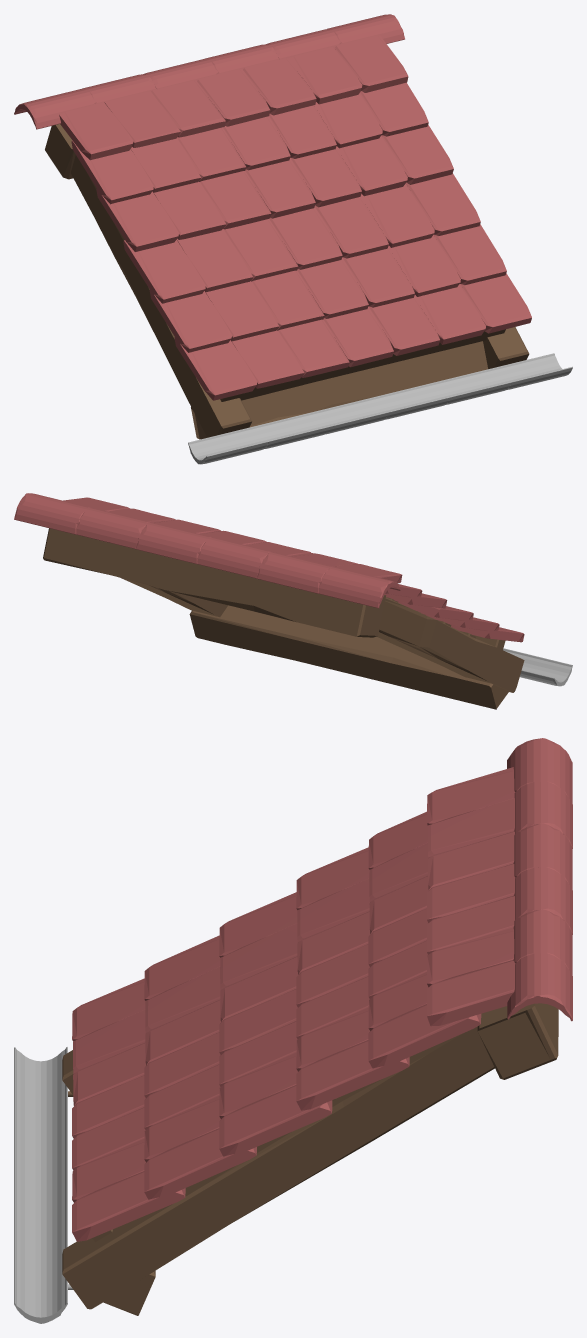
Rendered from PK_Roof_8.fbx.
3 renders of one model, top to bottom at view 1: azimuth 30°, elevation 25°; view 2: azimuth 150°, elevation 25°; view 3: azimuth 270°, elevation 25°, orthographic. The views are drawn at different scales.
Parts seen in each view (by area): view 1: PK_Roof_8; view 2: PK_Roof_8; view 3: PK_Roof_8.
Part boxes in pixels (<box>): PK_Roof_8: <box>14,14,572,464</box>; PK_Roof_8: <box>14,493,572,709</box>; PK_Roof_8: <box>14,738,572,1323</box>.
Size of the model in its own units: 265 by 164 by 241.
